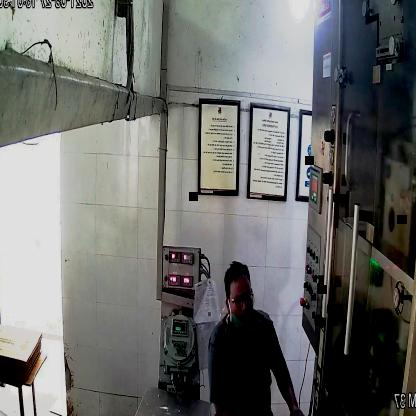goggles: (224, 284, 258, 312)
